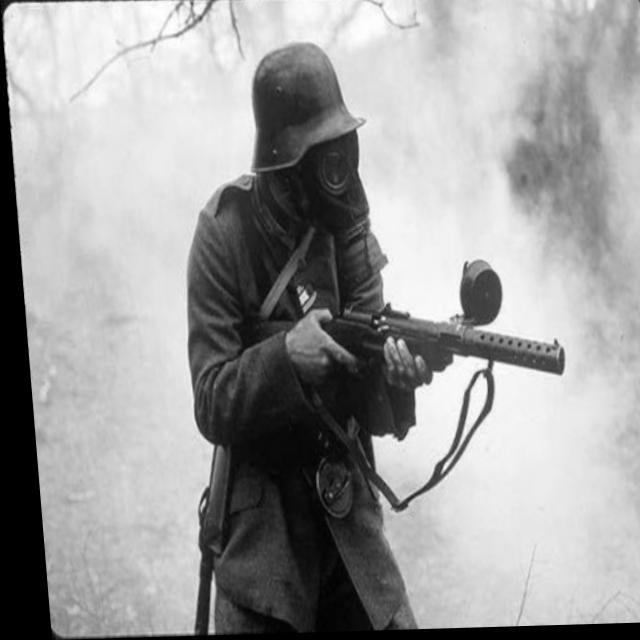other: (166, 32, 428, 633)
